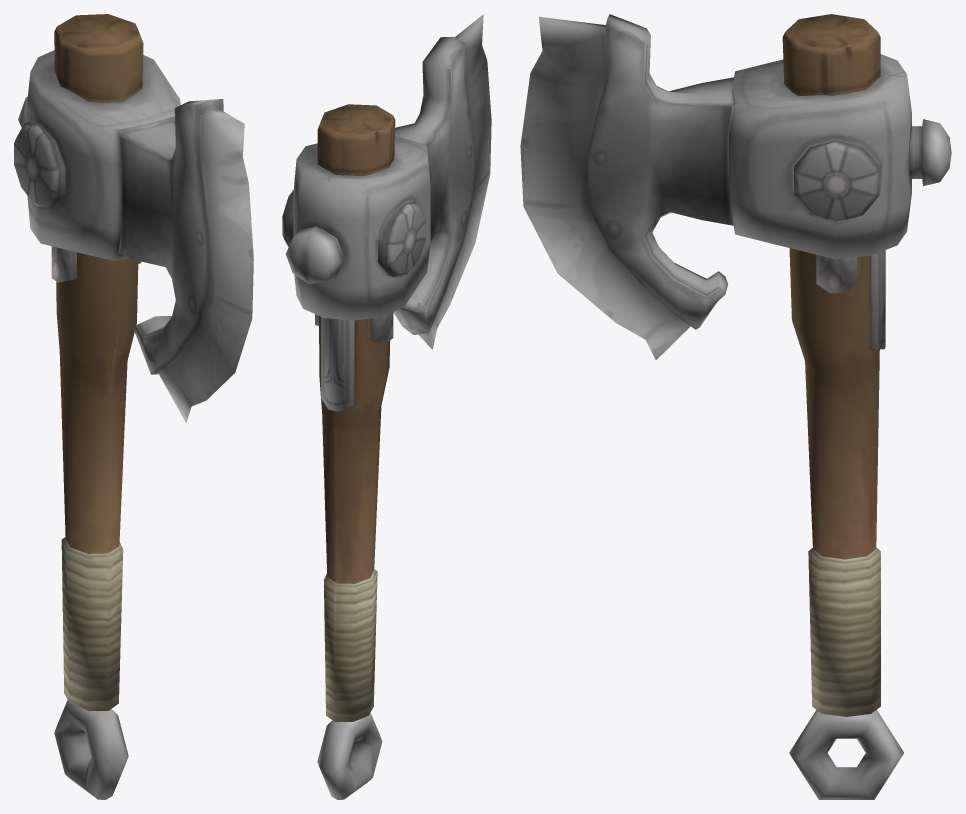
File: Axe.fbx
The picture shows the model from 3 angles, left to right: view 1: azimuth 30°, elevation 25°; view 2: azimuth 150°, elevation 25°; view 3: azimuth 270°, elevation 25°; orthographic projection. The views are drawn at different scales.
Parts seen in each view (by area): view 1: Axe; view 2: Axe; view 3: Axe.
Part boxes in pixels (left/top/right/bottom): Axe: left=14, top=14, right=253, bottom=799; Axe: left=282, top=14, right=491, bottom=799; Axe: left=520, top=14, right=951, bottom=799.
Bounding box in the file's own units: 10.86 × 31.48 × 62.95.
1 material, 1 textured.
